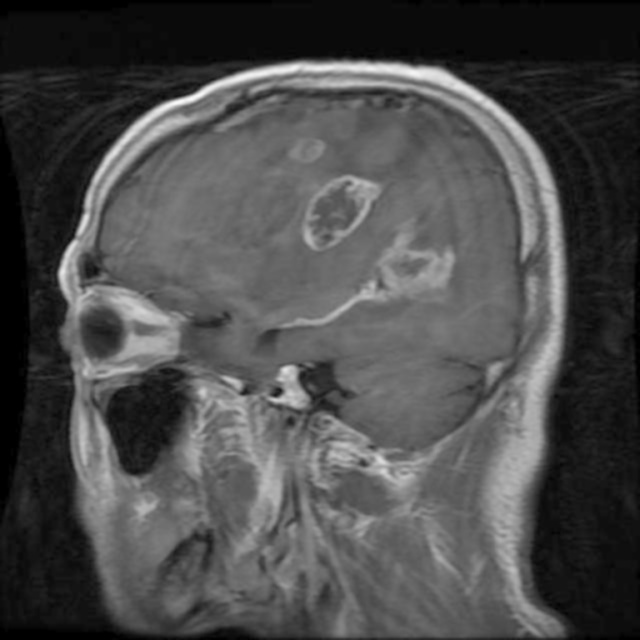pituitary tumor: (298, 178, 378, 254), (361, 252, 454, 298), (285, 139, 333, 160)
